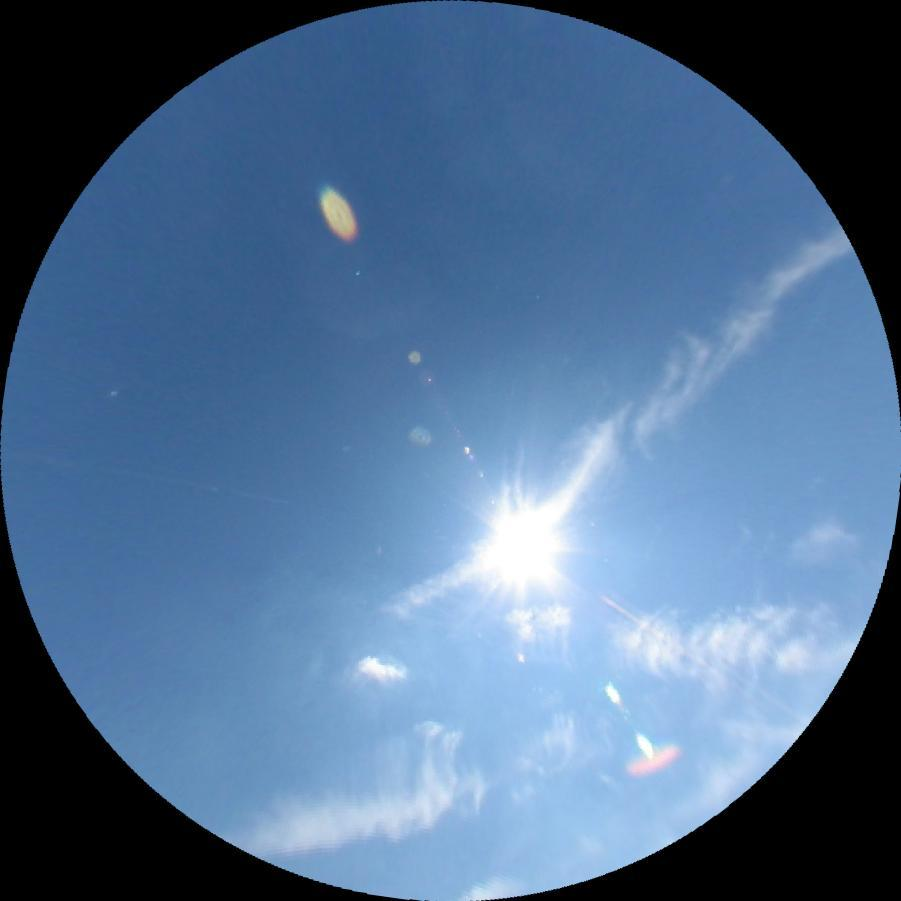contrail veryold: (370, 204, 862, 656)
parasite: (593, 590, 718, 676)
sun: (480, 500, 565, 590)
